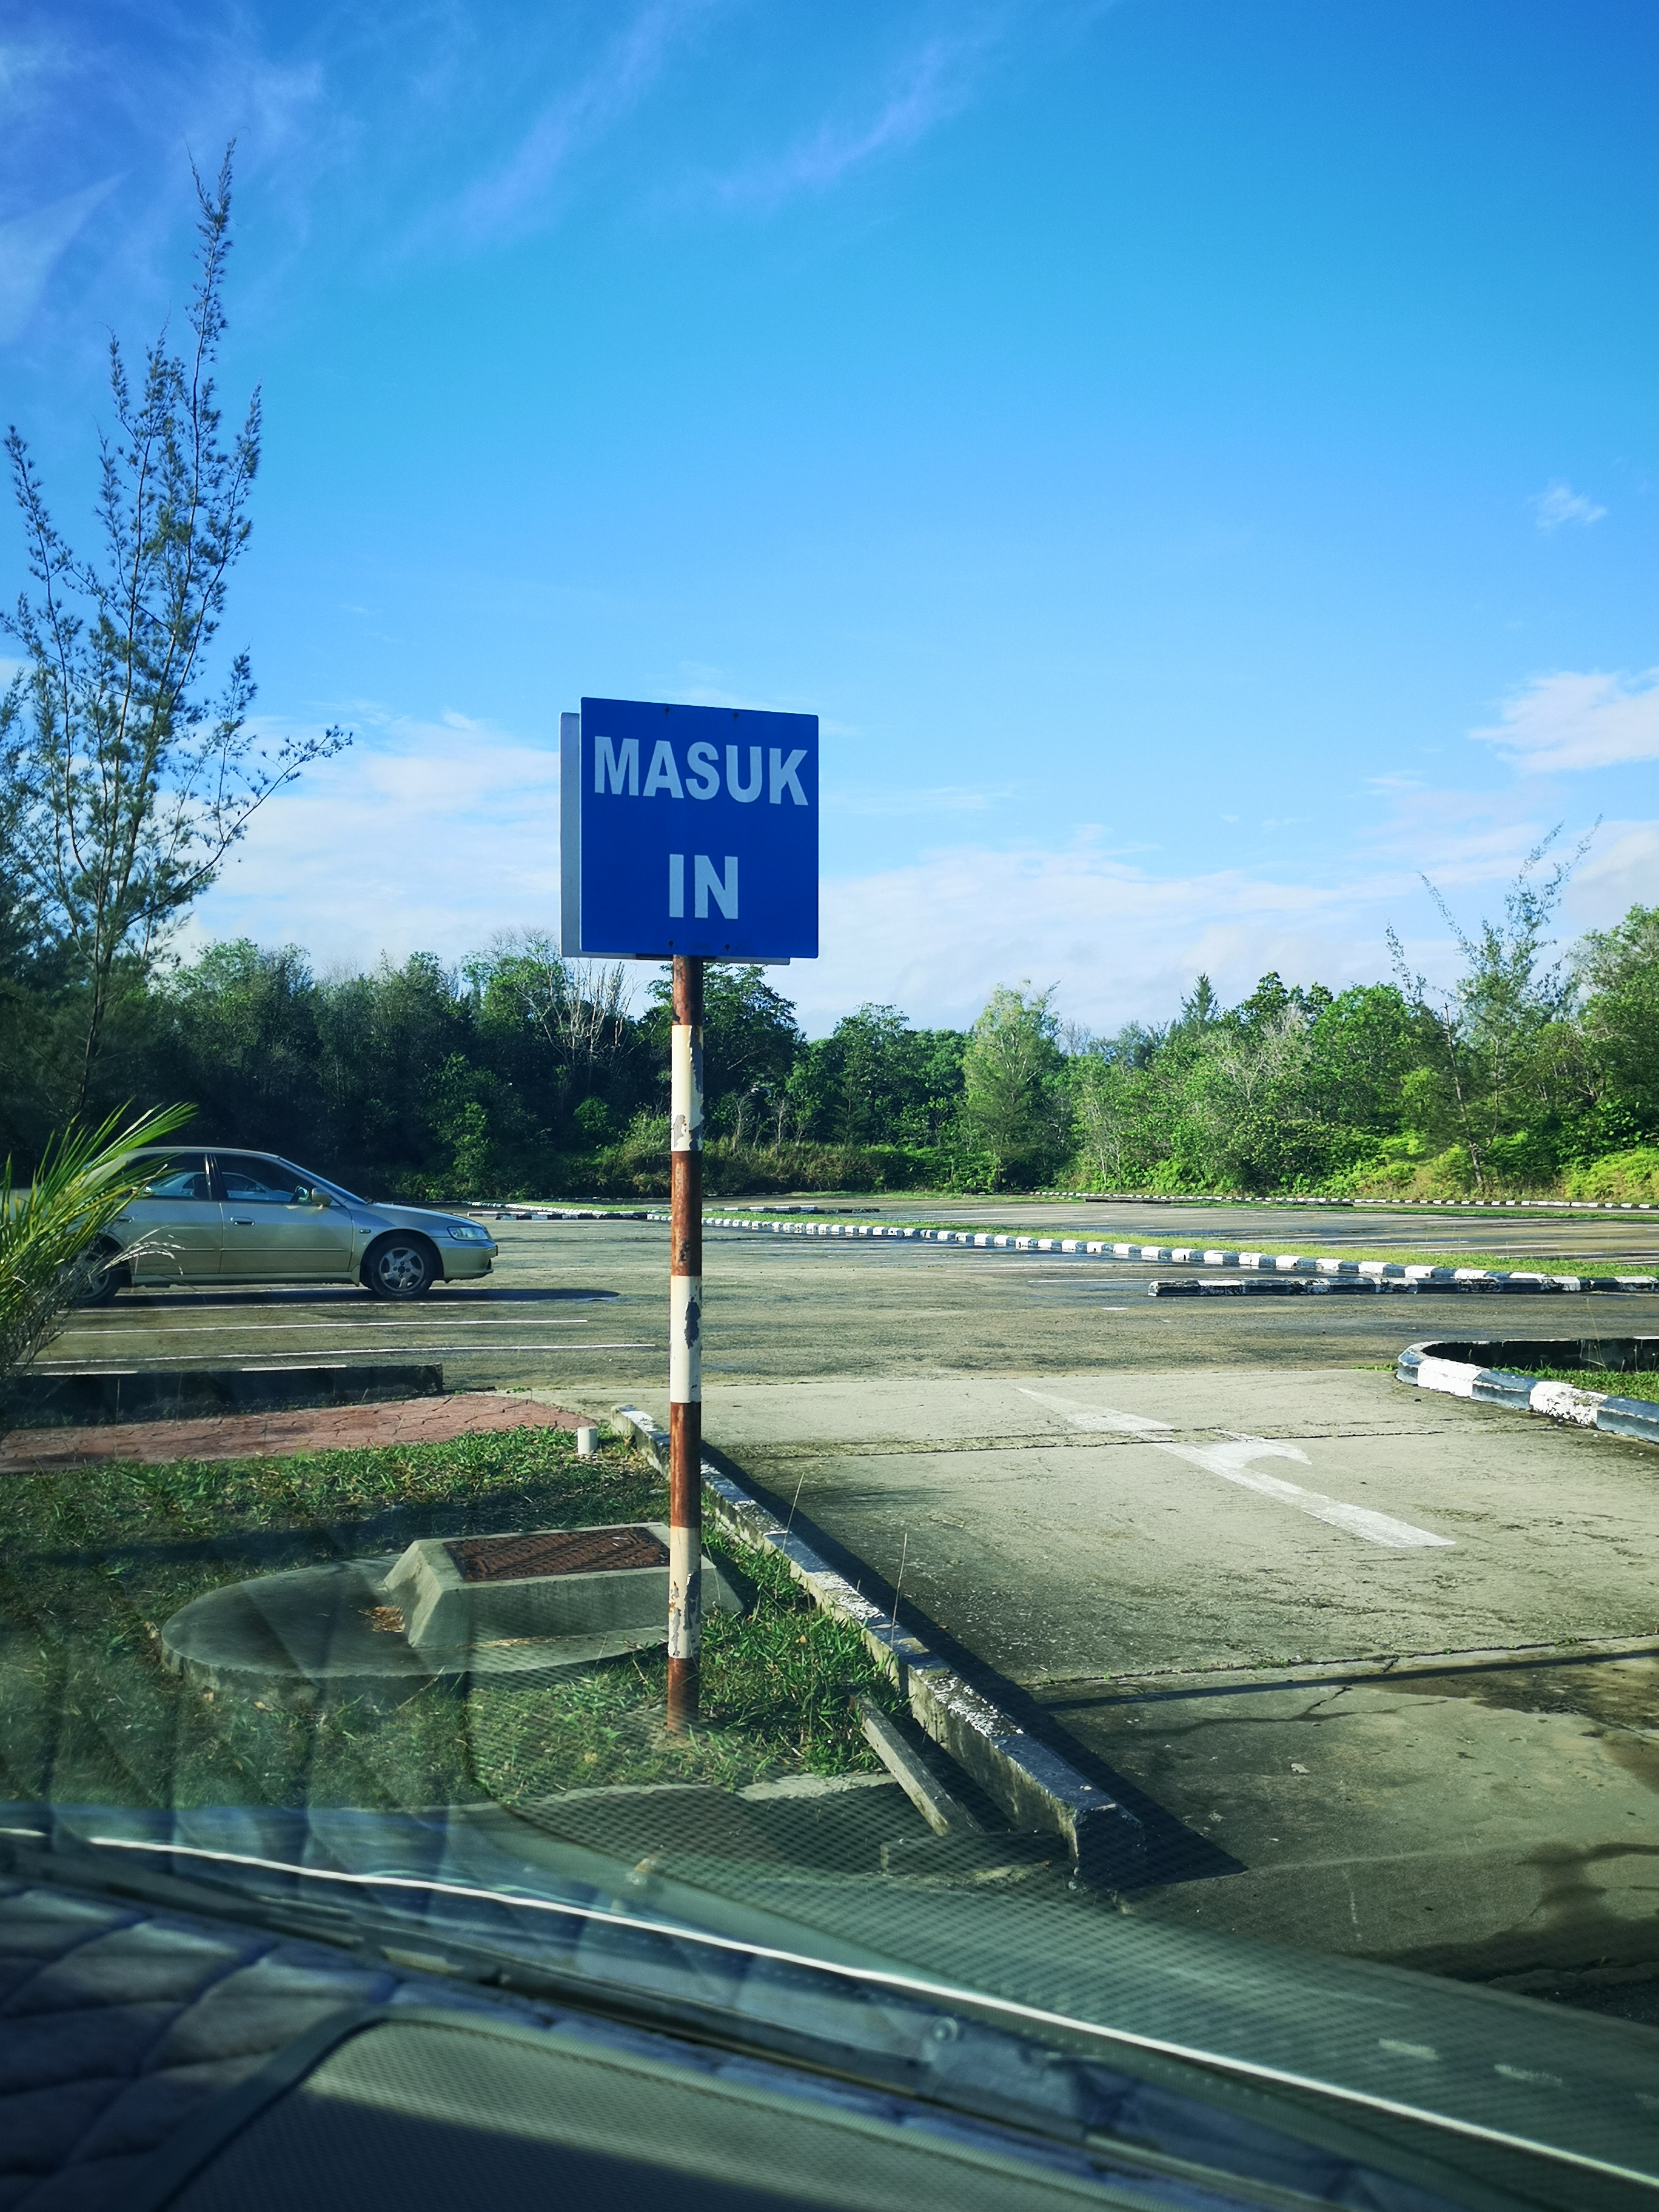in: (580, 693, 821, 960)
